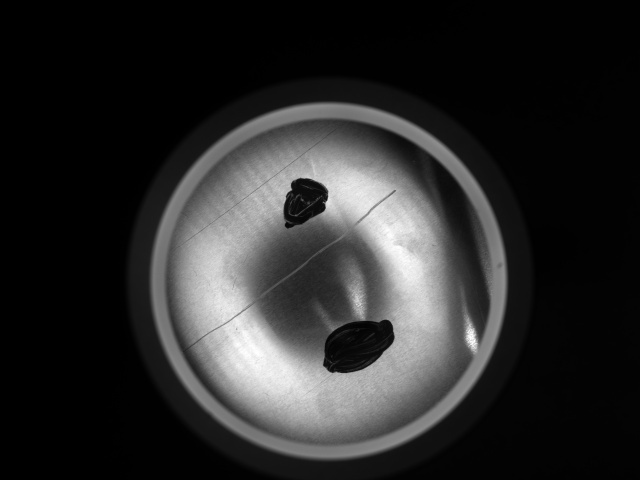ca_shang: (182, 186, 399, 354), (187, 125, 342, 246)
zang_wu: (318, 316, 396, 375), (280, 177, 331, 231)
